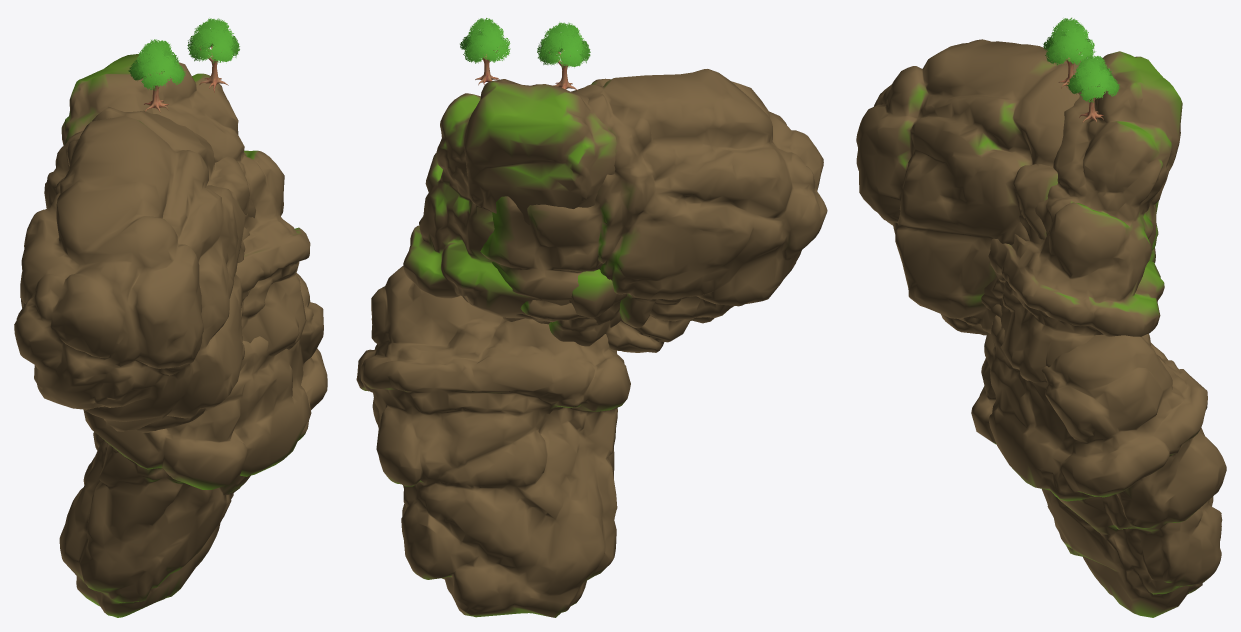
The model's file is cell_x-3_z-1_render.gltf.
3 renders of one model, left to right at view 1: azimuth 30°, elevation 25°; view 2: azimuth 150°, elevation 25°; view 3: azimuth 270°, elevation 25°, orthographic. The views are drawn at different scales.
Visible parts, largest first — view 1: SM_ENV_cliff_castle_01_LOD0.048, SM_ENV_cliff_castle_02_LOD0.017, SM_ENV_cliff_castle_02_LOD0.019, SM_ENV_tree_castle_01_LOD0.009, SM_ENV_tree_castle_01_LOD0.040; view 2: SM_ENV_cliff_castle_02_LOD0.017, SM_ENV_cliff_castle_01_LOD0.048, SM_ENV_cliff_castle_02_LOD0.019, SM_ENV_tree_castle_01_LOD0.009, SM_ENV_tree_castle_01_LOD0.040; view 3: SM_ENV_cliff_castle_02_LOD0.017, SM_ENV_cliff_castle_01_LOD0.048, SM_ENV_cliff_castle_02_LOD0.019, SM_ENV_tree_castle_01_LOD0.009, SM_ENV_tree_castle_01_LOD0.040.
Part boxes in pixels (x1,y1,x2,y2): SM_ENV_cliff_castle_01_LOD0.048: [14, 107, 255, 432]; SM_ENV_cliff_castle_02_LOD0.017: [59, 273, 327, 617]; SM_ENV_cliff_castle_02_LOD0.019: [61, 54, 310, 356]; SM_ENV_tree_castle_01_LOD0.009: [128, 39, 185, 112]; SM_ENV_tree_castle_01_LOD0.040: [187, 18, 239, 92]; SM_ENV_cliff_castle_02_LOD0.017: [356, 265, 630, 617]; SM_ENV_cliff_castle_01_LOD0.048: [480, 69, 827, 352]; SM_ENV_cliff_castle_02_LOD0.019: [403, 79, 627, 327]; SM_ENV_tree_castle_01_LOD0.009: [537, 22, 590, 90]; SM_ENV_tree_castle_01_LOD0.040: [460, 18, 510, 85]; SM_ENV_cliff_castle_02_LOD0.017: [971, 315, 1226, 617]; SM_ENV_cliff_castle_01_LOD0.048: [856, 39, 1158, 335]; SM_ENV_cliff_castle_02_LOD0.019: [981, 51, 1182, 383]; SM_ENV_tree_castle_01_LOD0.009: [1043, 17, 1095, 88]; SM_ENV_tree_castle_01_LOD0.040: [1066, 55, 1119, 122].
Bounding box in the file's own units: 95.9 × 141 × 81.65.
Materials: 3 (2 with a texture image).
